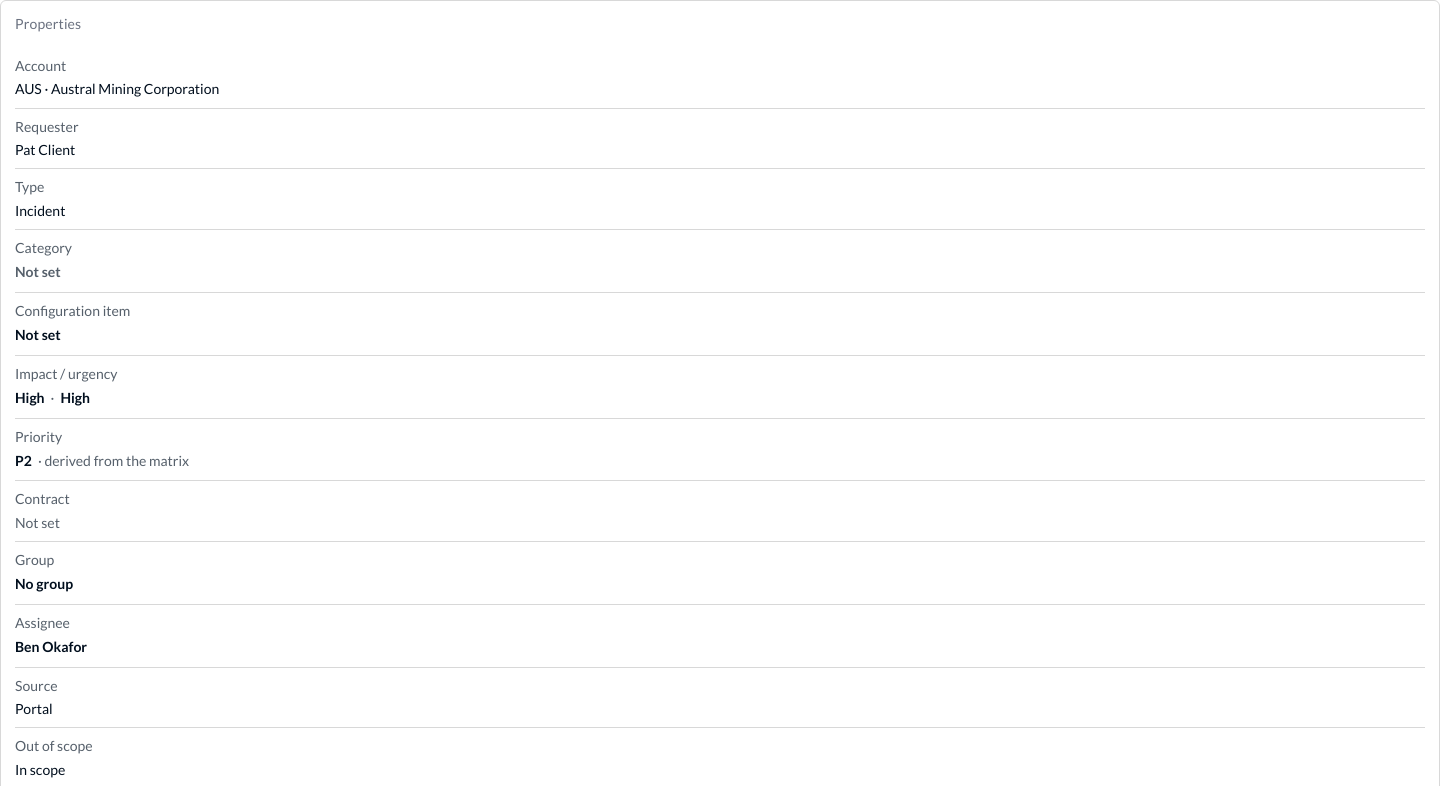
Test: PropertiesPanel › is named Properties and carries the matrix caption on the Priority row
This screenshot has width=1440, height=786.
Check: the element showing "Priority P2 · derived from the matrix" is shown, box [15,419,1425,481]
Click the button "P2" at (23, 461), box [12,450,35,471]
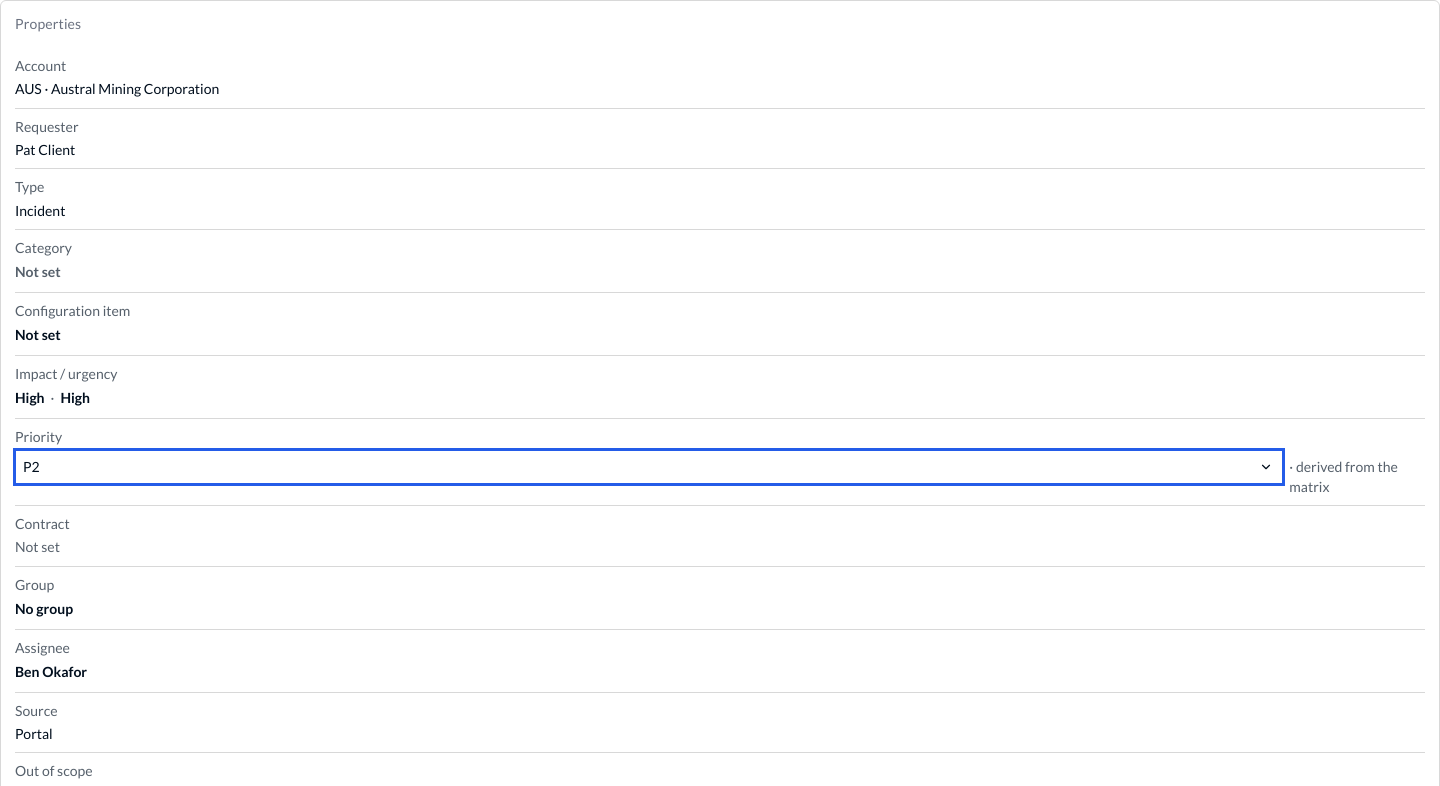
Check: the dropdown labelled "Priority" shows "P2", box [15,450,1283,484]
